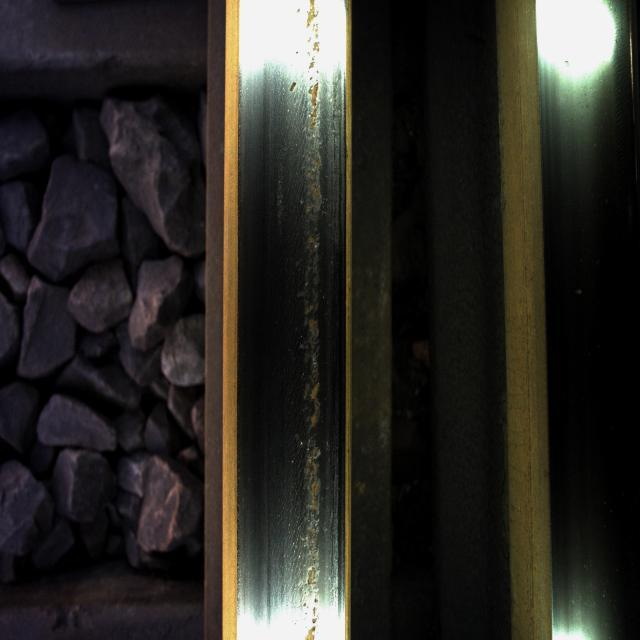scar: (290, 0, 328, 640)
